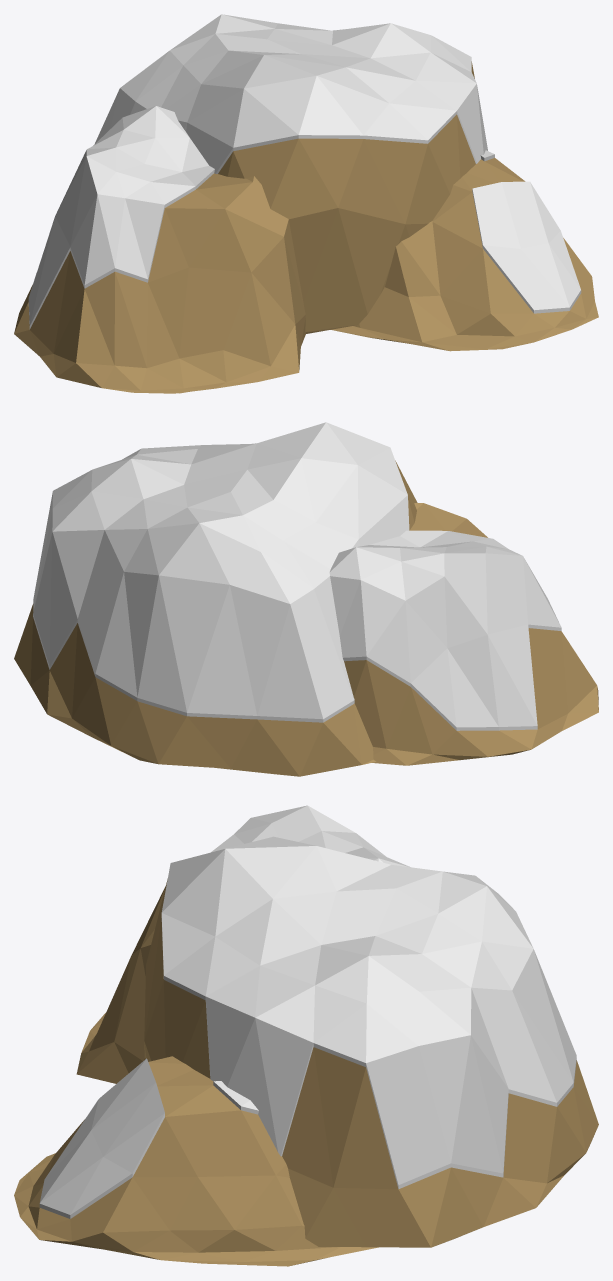
File: Stone1b.fbx
3 views of the same model, one above another, from view 1: azimuth 30°, elevation 25°; view 2: azimuth 150°, elevation 25°; view 3: azimuth 270°, elevation 25° (orthographic). The views are drawn at different scales.
Visible parts, largest first — view 1: Stone1.001; view 2: Stone1.001; view 3: Stone1.001.
Boxes of the visible parts, x1,y1,x2,y2 form: Stone1.001: [14, 14, 598, 393]; Stone1.001: [14, 422, 598, 776]; Stone1.001: [14, 805, 598, 1266].
Bounding box in the file's own units: 1259 × 548 × 1052.
